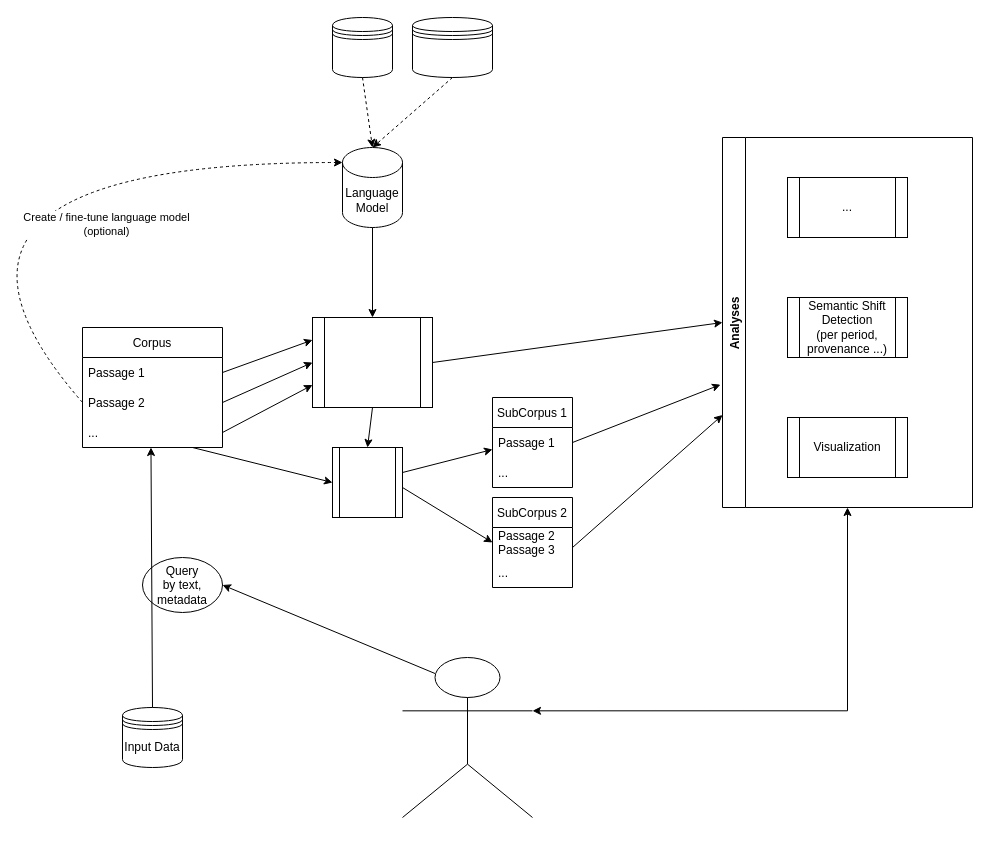
Image size: 991x856. Some labels were removed from this diagram. The shapes that lost their labels are listed below. From the top down, each one's centre as x and y in pixels, then its label:
At pixel 362 47: "Custom Model".
At pixel 452 47: "HuggingFace Model Hub".
At pixel 372 362: "Compute Contextual Word Embeddings".
At pixel 367 482: "Clustering".
At pixel 467 737: "Text Corpus Researcher".
